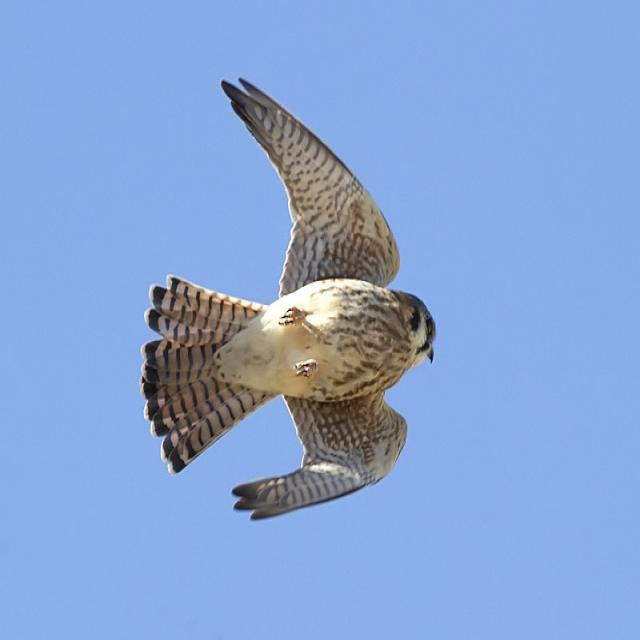bird: (133, 70, 441, 538)
